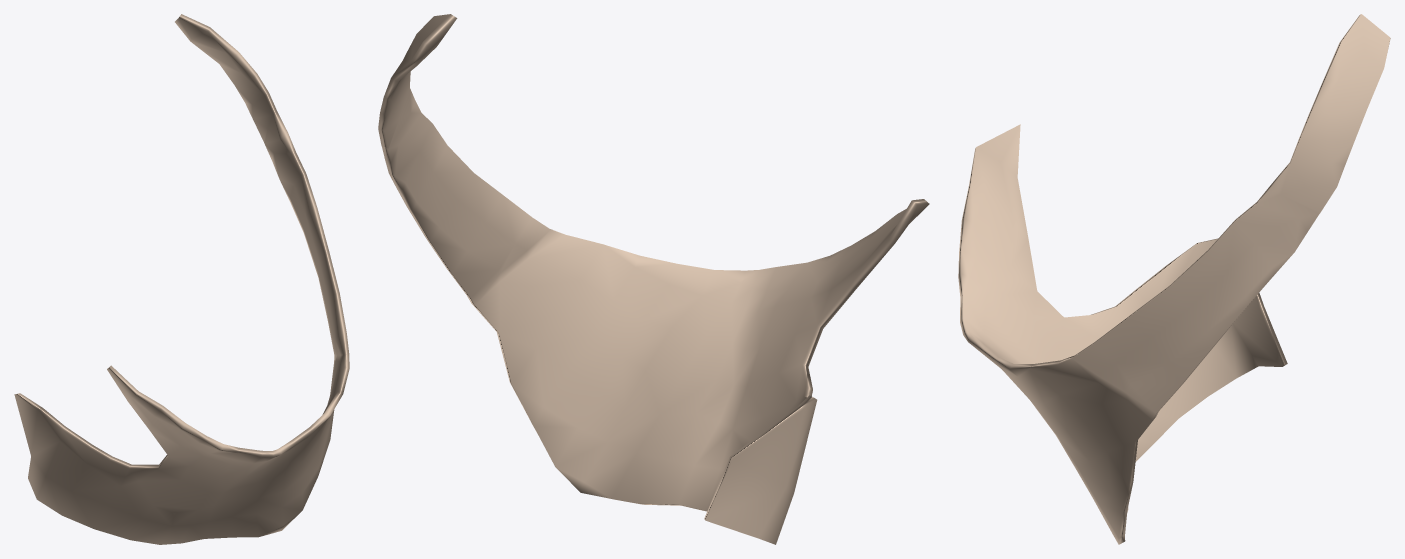
3 renders of one model, left to right at view 1: azimuth 30°, elevation 25°; view 2: azimuth 150°, elevation 25°; view 3: azimuth 270°, elevation 25°, orthographic. The views are drawn at different scales.
Visible parts, largest first — view 1: 左侧腓骨肌上支持带; view 2: 左侧腓骨肌上支持带; view 3: 左侧腓骨肌上支持带.
Boxes of the visible parts, box(x1,y1,x2,y2) form: 左侧腓骨肌上支持带: box(14, 14, 349, 544); 左侧腓骨肌上支持带: box(378, 14, 929, 544); 左侧腓骨肌上支持带: box(958, 14, 1390, 544).
Bounding box in the file's own units: 0.0845 × 0.1194 × 0.088.
